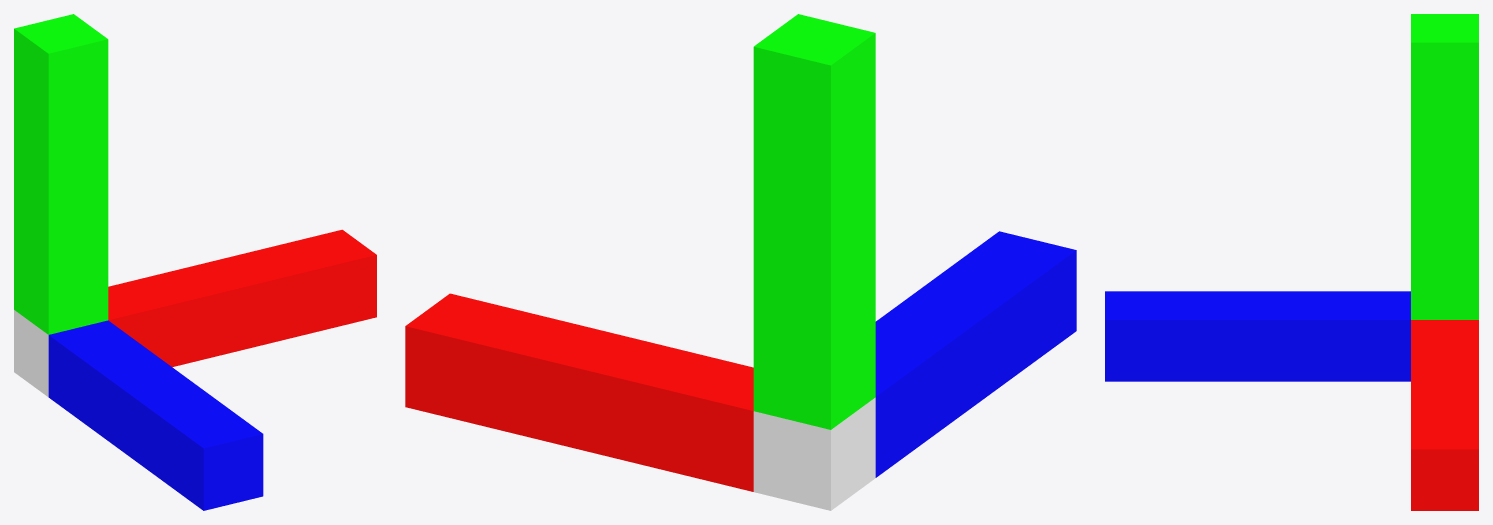
The model's file is scale_collider.glb.
3 views of the same model, side by side, from view 1: azimuth 30°, elevation 25°; view 2: azimuth 150°, elevation 25°; view 3: azimuth 270°, elevation 25° (orthographic). The views are drawn at different scales.
Visible parts, largest first — view 1: Cube.001, Cube.004, Cube.002, Cube.003; view 2: Cube.001, Cube.004, Cube.002, Cube.003; view 3: Cube.002, Cube.001, Cube.004.
Part boxes in pixels (x1,y1,x2,y2): Cube.001: [14, 14, 108, 334]; Cube.004: [108, 229, 376, 367]; Cube.002: [48, 320, 263, 510]; Cube.003: [14, 310, 48, 397]; Cube.001: [753, 14, 875, 429]; Cube.004: [405, 293, 753, 491]; Cube.002: [875, 231, 1076, 477]; Cube.003: [753, 397, 875, 510]; Cube.002: [1105, 291, 1410, 381]; Cube.001: [1411, 14, 1478, 319]; Cube.004: [1411, 320, 1478, 510].
Size of the model in its own units: 1.1 by 1.1 by 1.1.
